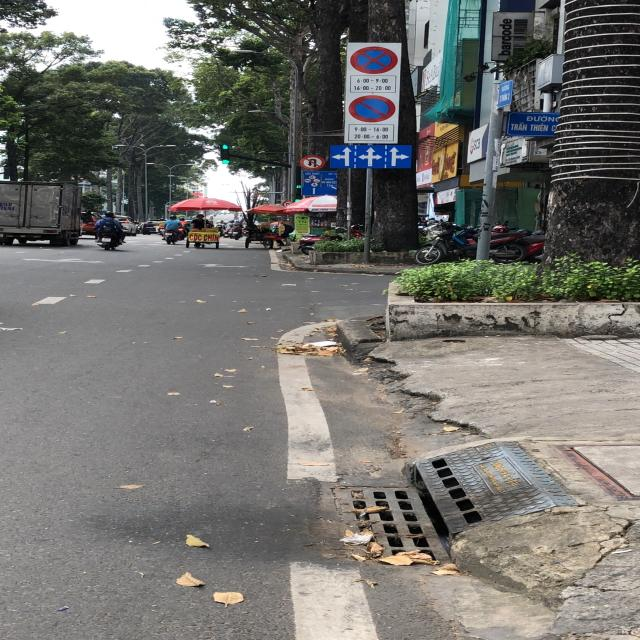Bien bao cam do xe: (346, 94, 398, 124)
Bien bao cam dung xe va do xe: (348, 44, 400, 76)
Bien bao cam quay dau xe: (298, 153, 328, 170)
